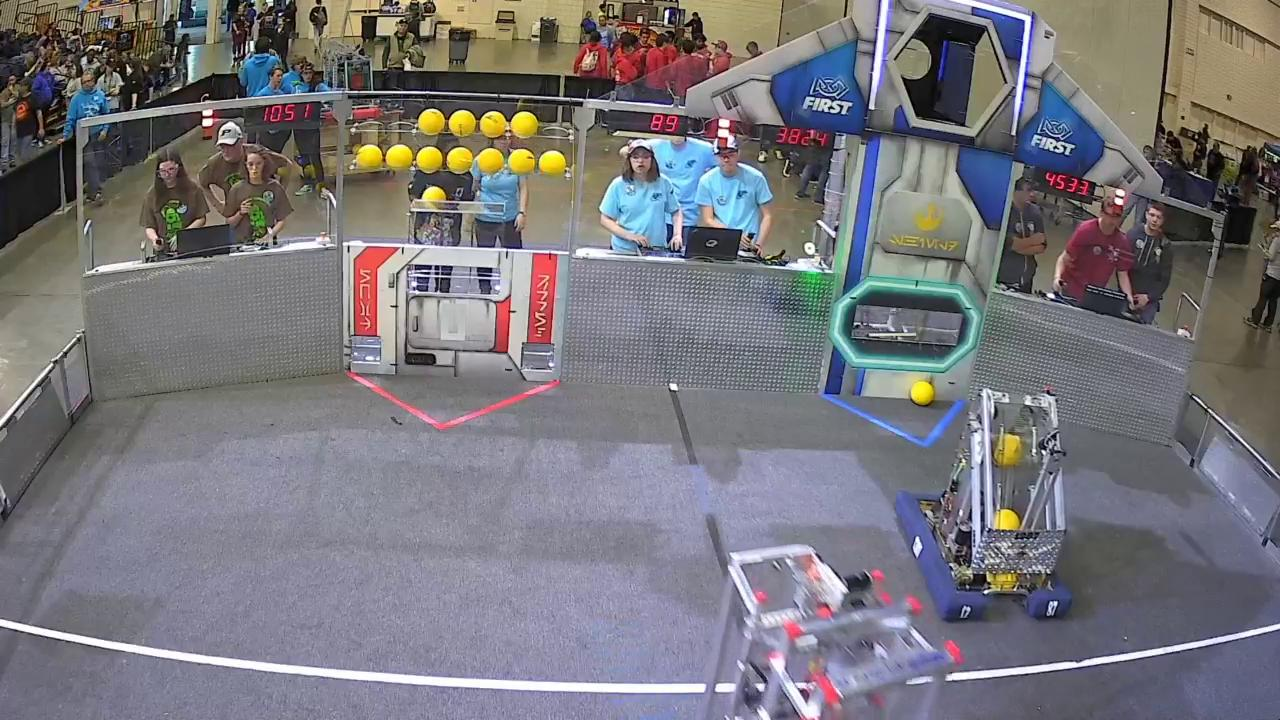robot: (907, 390, 1067, 621)
